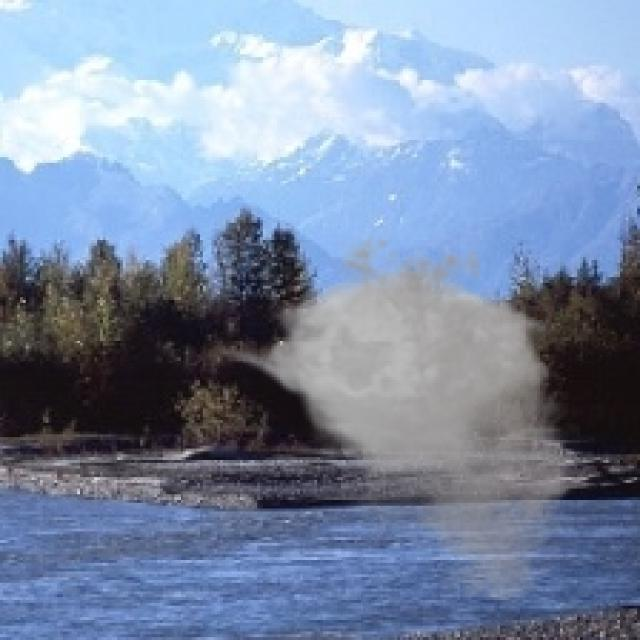Smoke: (214, 222, 589, 608)
